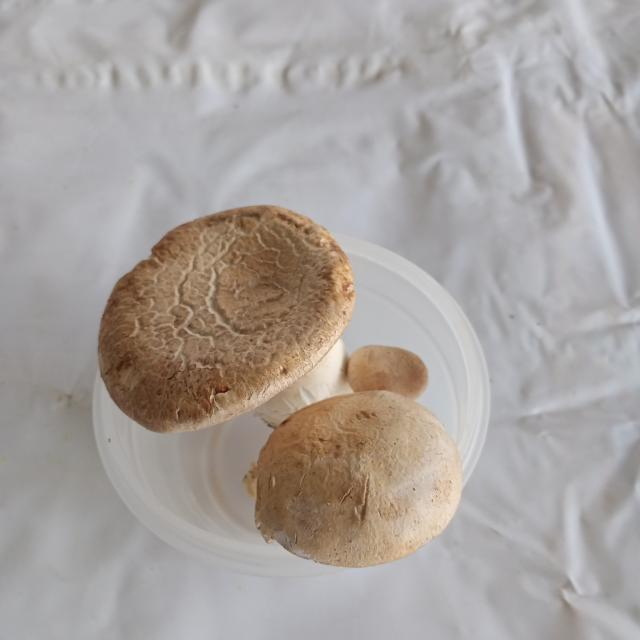Pleurotus cystidiosus: (96, 207, 354, 434), (259, 340, 460, 568)
